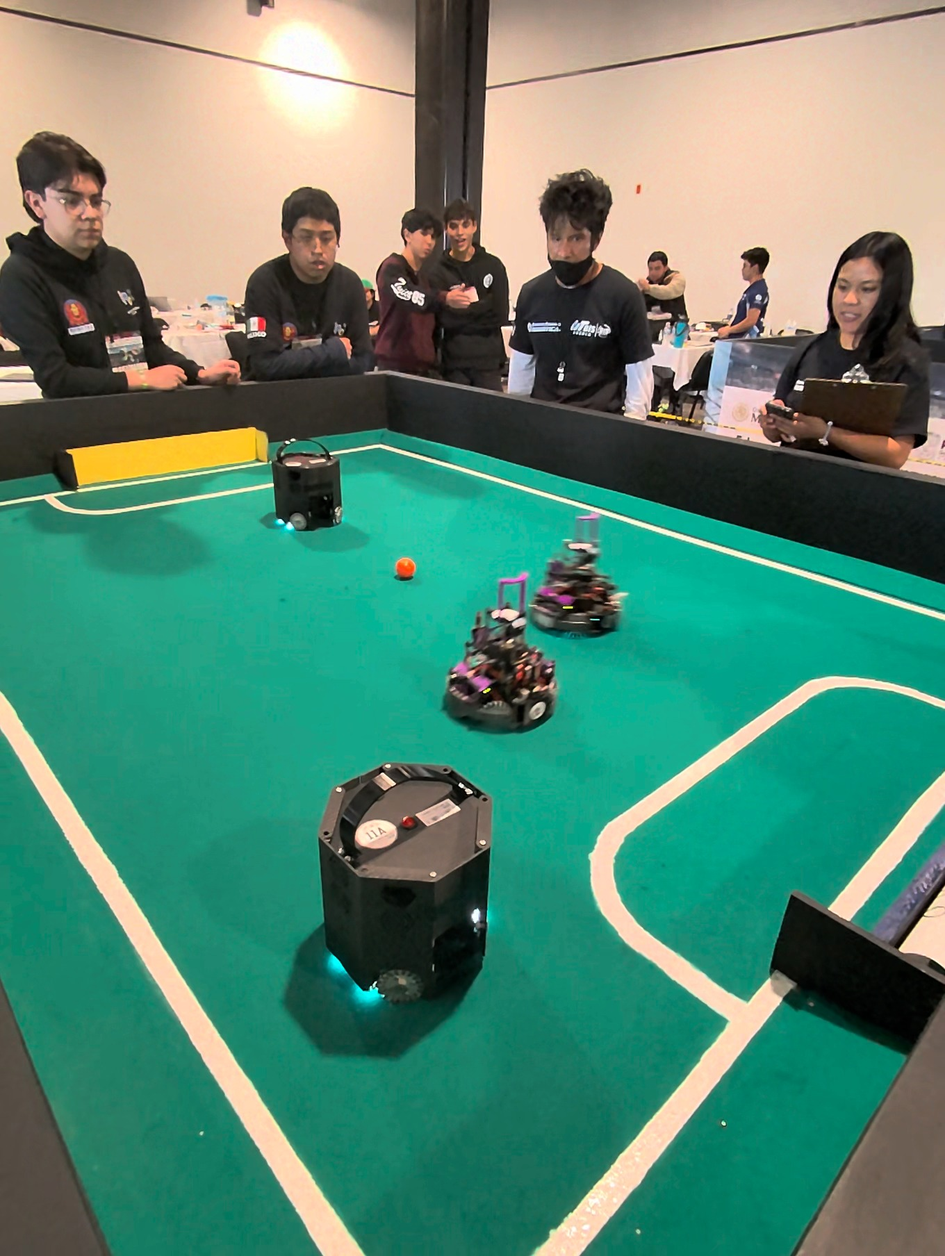Robot: (316, 730, 493, 1041), (447, 599, 561, 741), (512, 530, 623, 641), (268, 436, 352, 548)
pelota: (395, 559, 418, 581)
